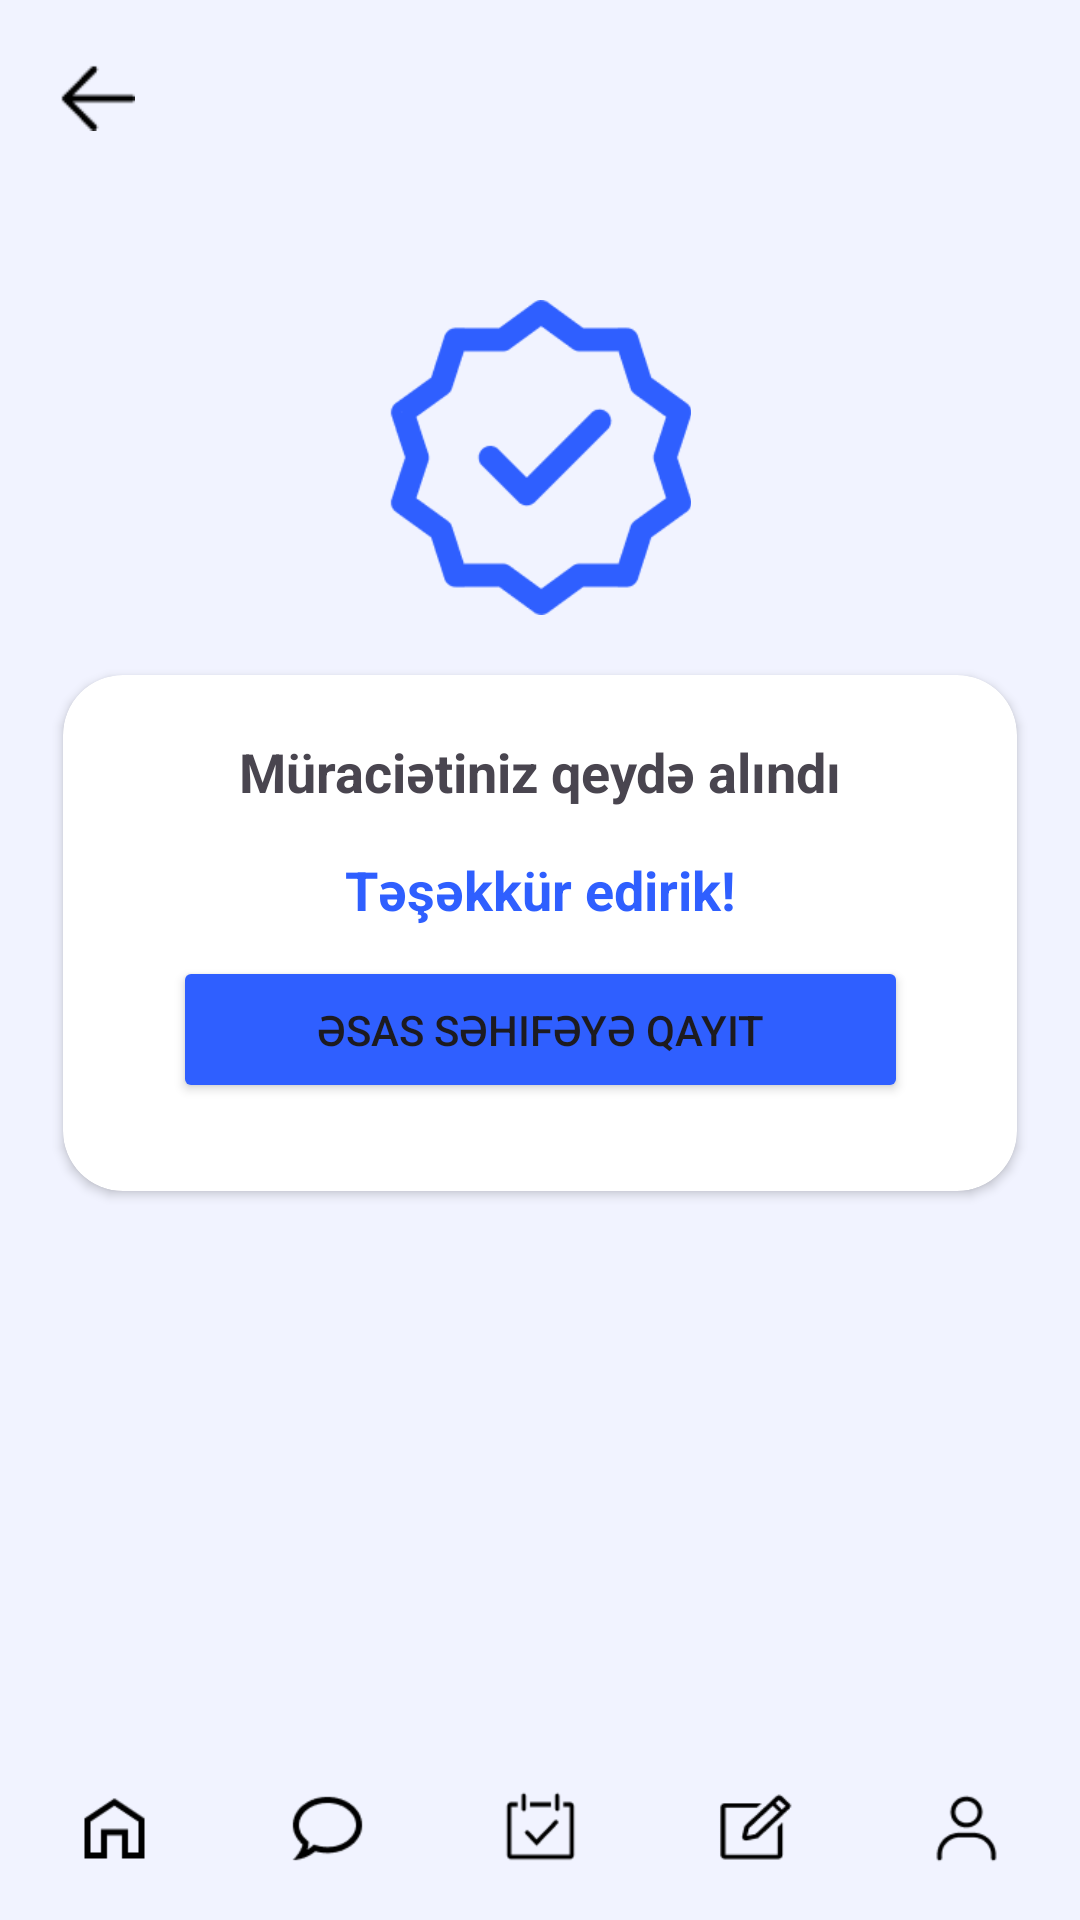

Icons on this 1080px×1920px Android screen, each with its box as (x1, y1, x2, y2):
account: (936, 1795, 997, 1861)
backarrow: (61, 66, 135, 131)
event: (506, 1792, 575, 1860)
exam: (720, 1794, 792, 1860)
home: (84, 1798, 145, 1859)
successmuraciyyet: (390, 300, 691, 615)
